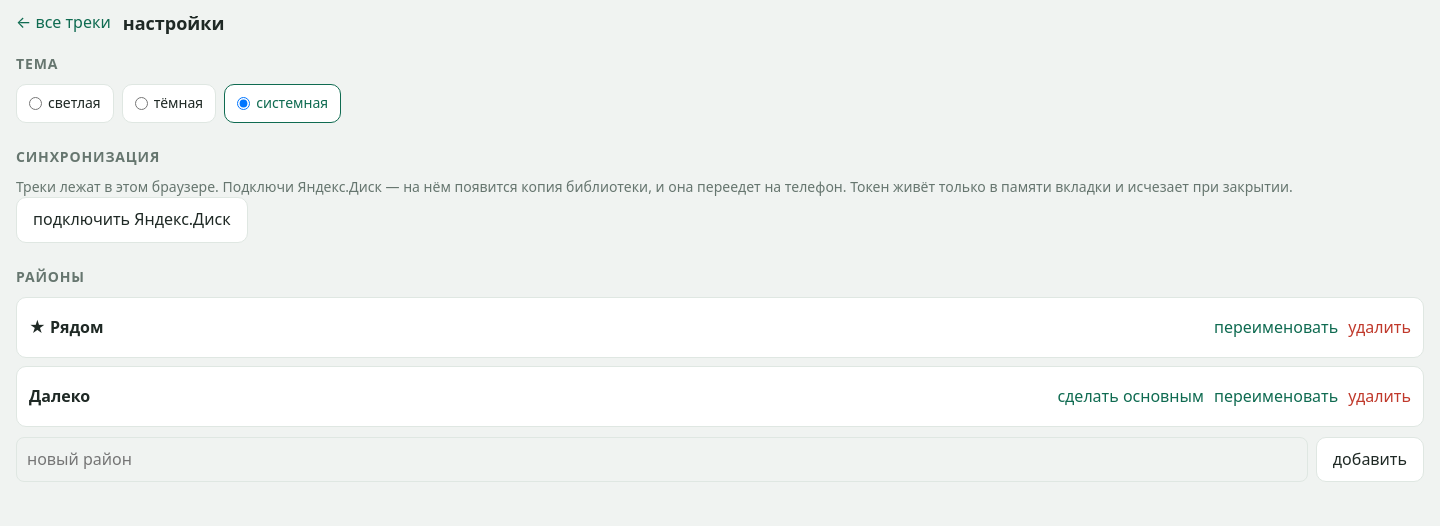
создание района с ошибкой: подсказка, район не появился
Check: the text "Рядом" is shown, box [50,316,104,338]
Type "Хамар-Дабан" into the field named "имя нового района" at [662, 460], box [16,437,1308,482]
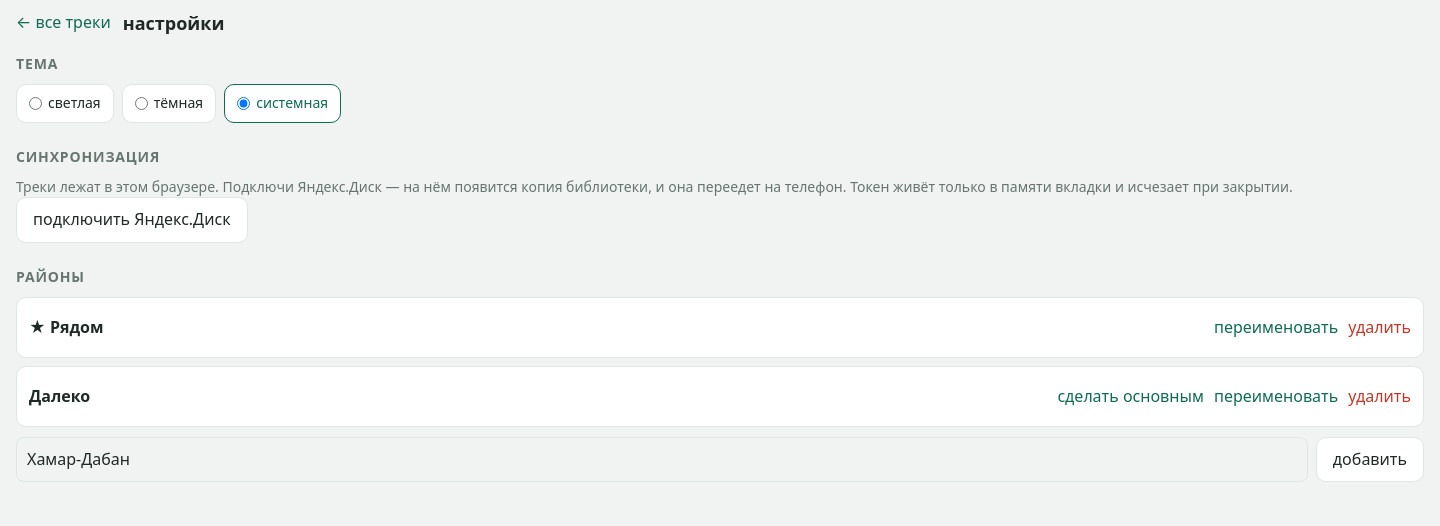
Click the button "добавить" at [1370, 460], box [1316,437,1424,482]
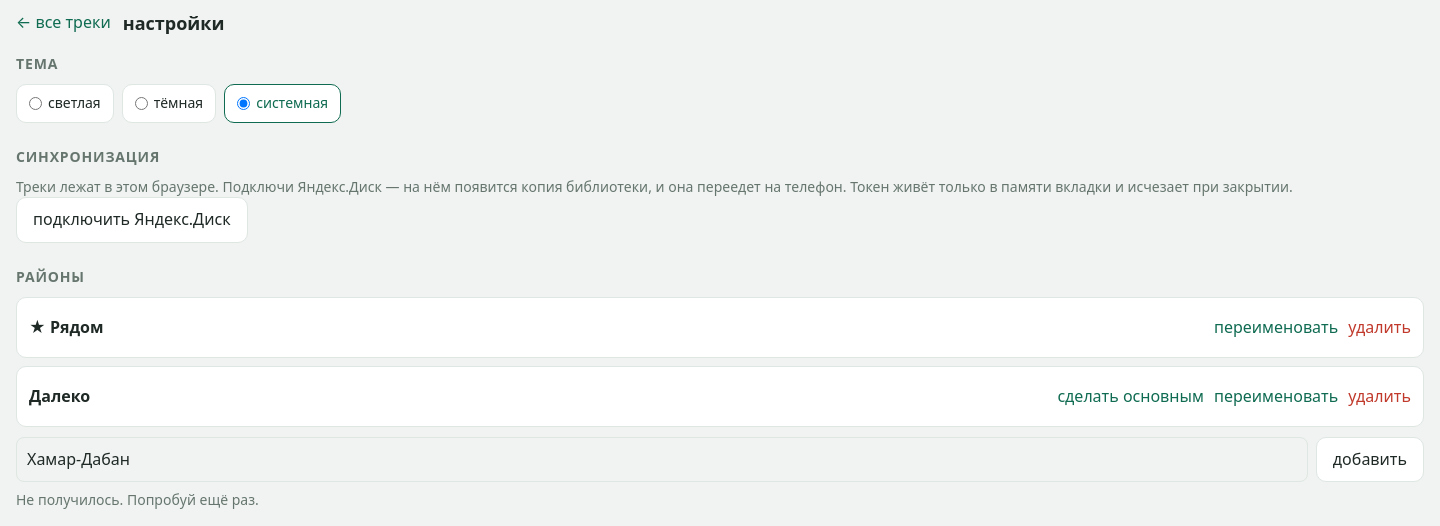
Check: the text "Не получилось. Попробуй ещё раз." is shown, box [16,490,259,509]
